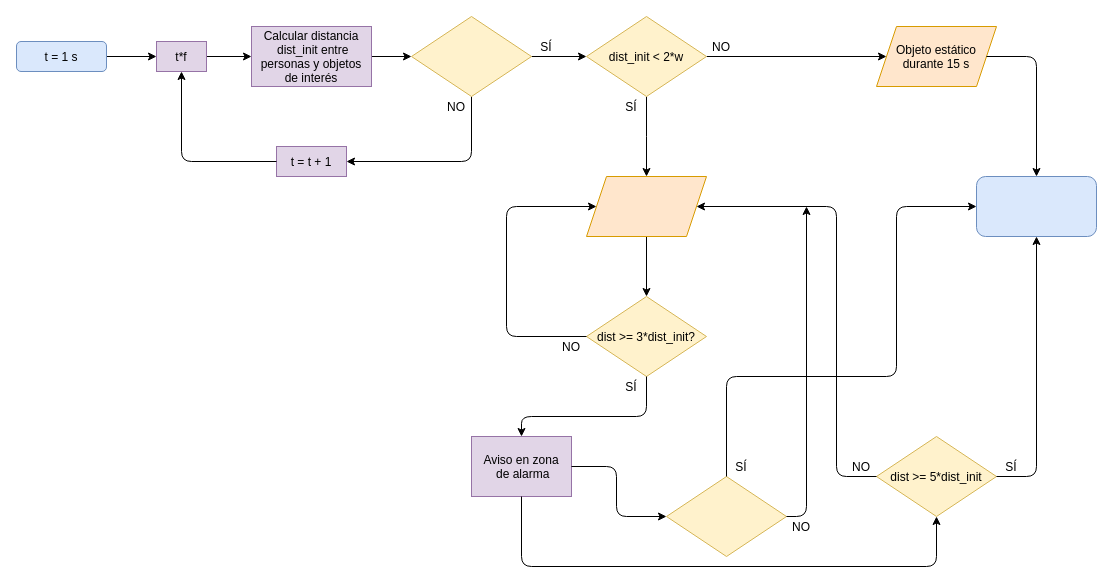
This 1113x583 diagram has some shape labels left out. Here are the shapes that lost their labels. From the top down, the centre of each, then its label:
At (x=471, y=56): "t*f = 5*f".
At (x=646, y=206): "Medir distancia persona-objeto frame a frame".
At (x=1036, y=206): "Aviso de objeto abandonado".
At (x=726, y=516): "t >= 15 en zona de alarma".
